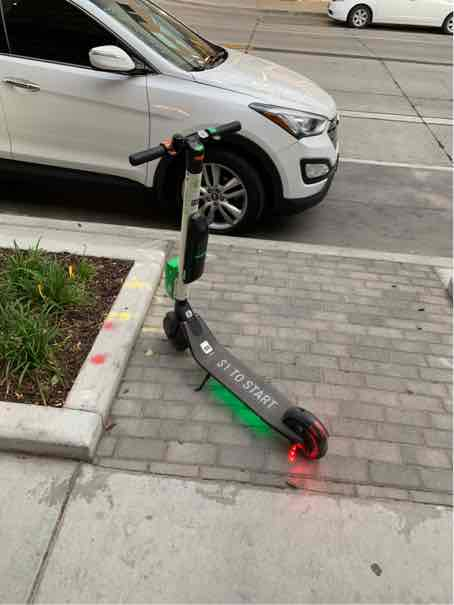scooter: (130, 118, 337, 468)
